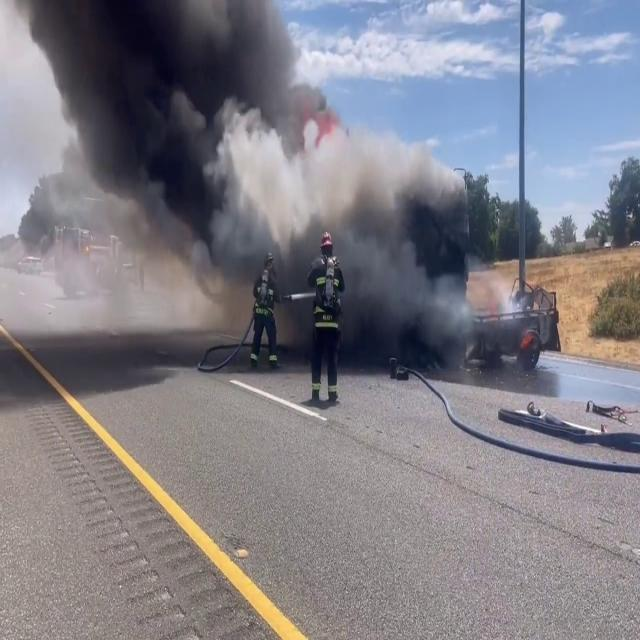Smoke: (9, 0, 498, 355)
